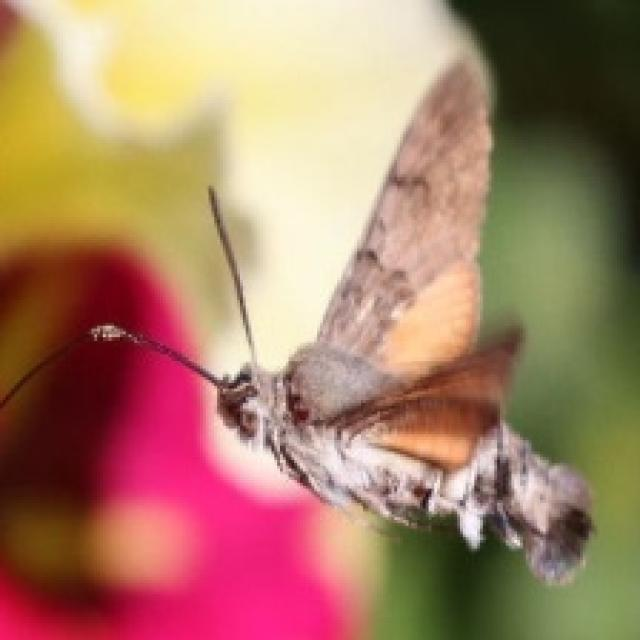butterfly: (0, 54, 597, 589)
